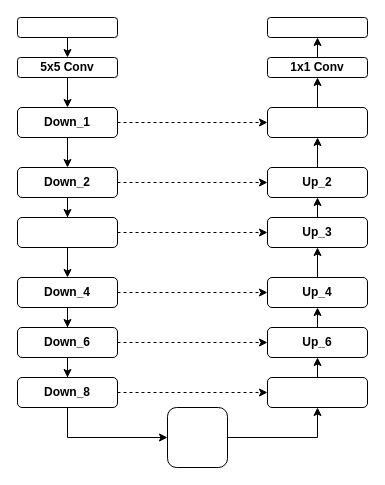
Image size: 385x485. Some labels were removed from this diagram. Here are the shapes that lost their labels. From the top down, the centre of each, then its label:
At (x=67, y=27): "Input".
At (x=317, y=27): "Output".
At (x=317, y=122): "Up_1".
At (x=67, y=232): "Down_3".
At (x=317, y=392): "Up_8".
At (x=197, y=437): "DB (8 conv)".
